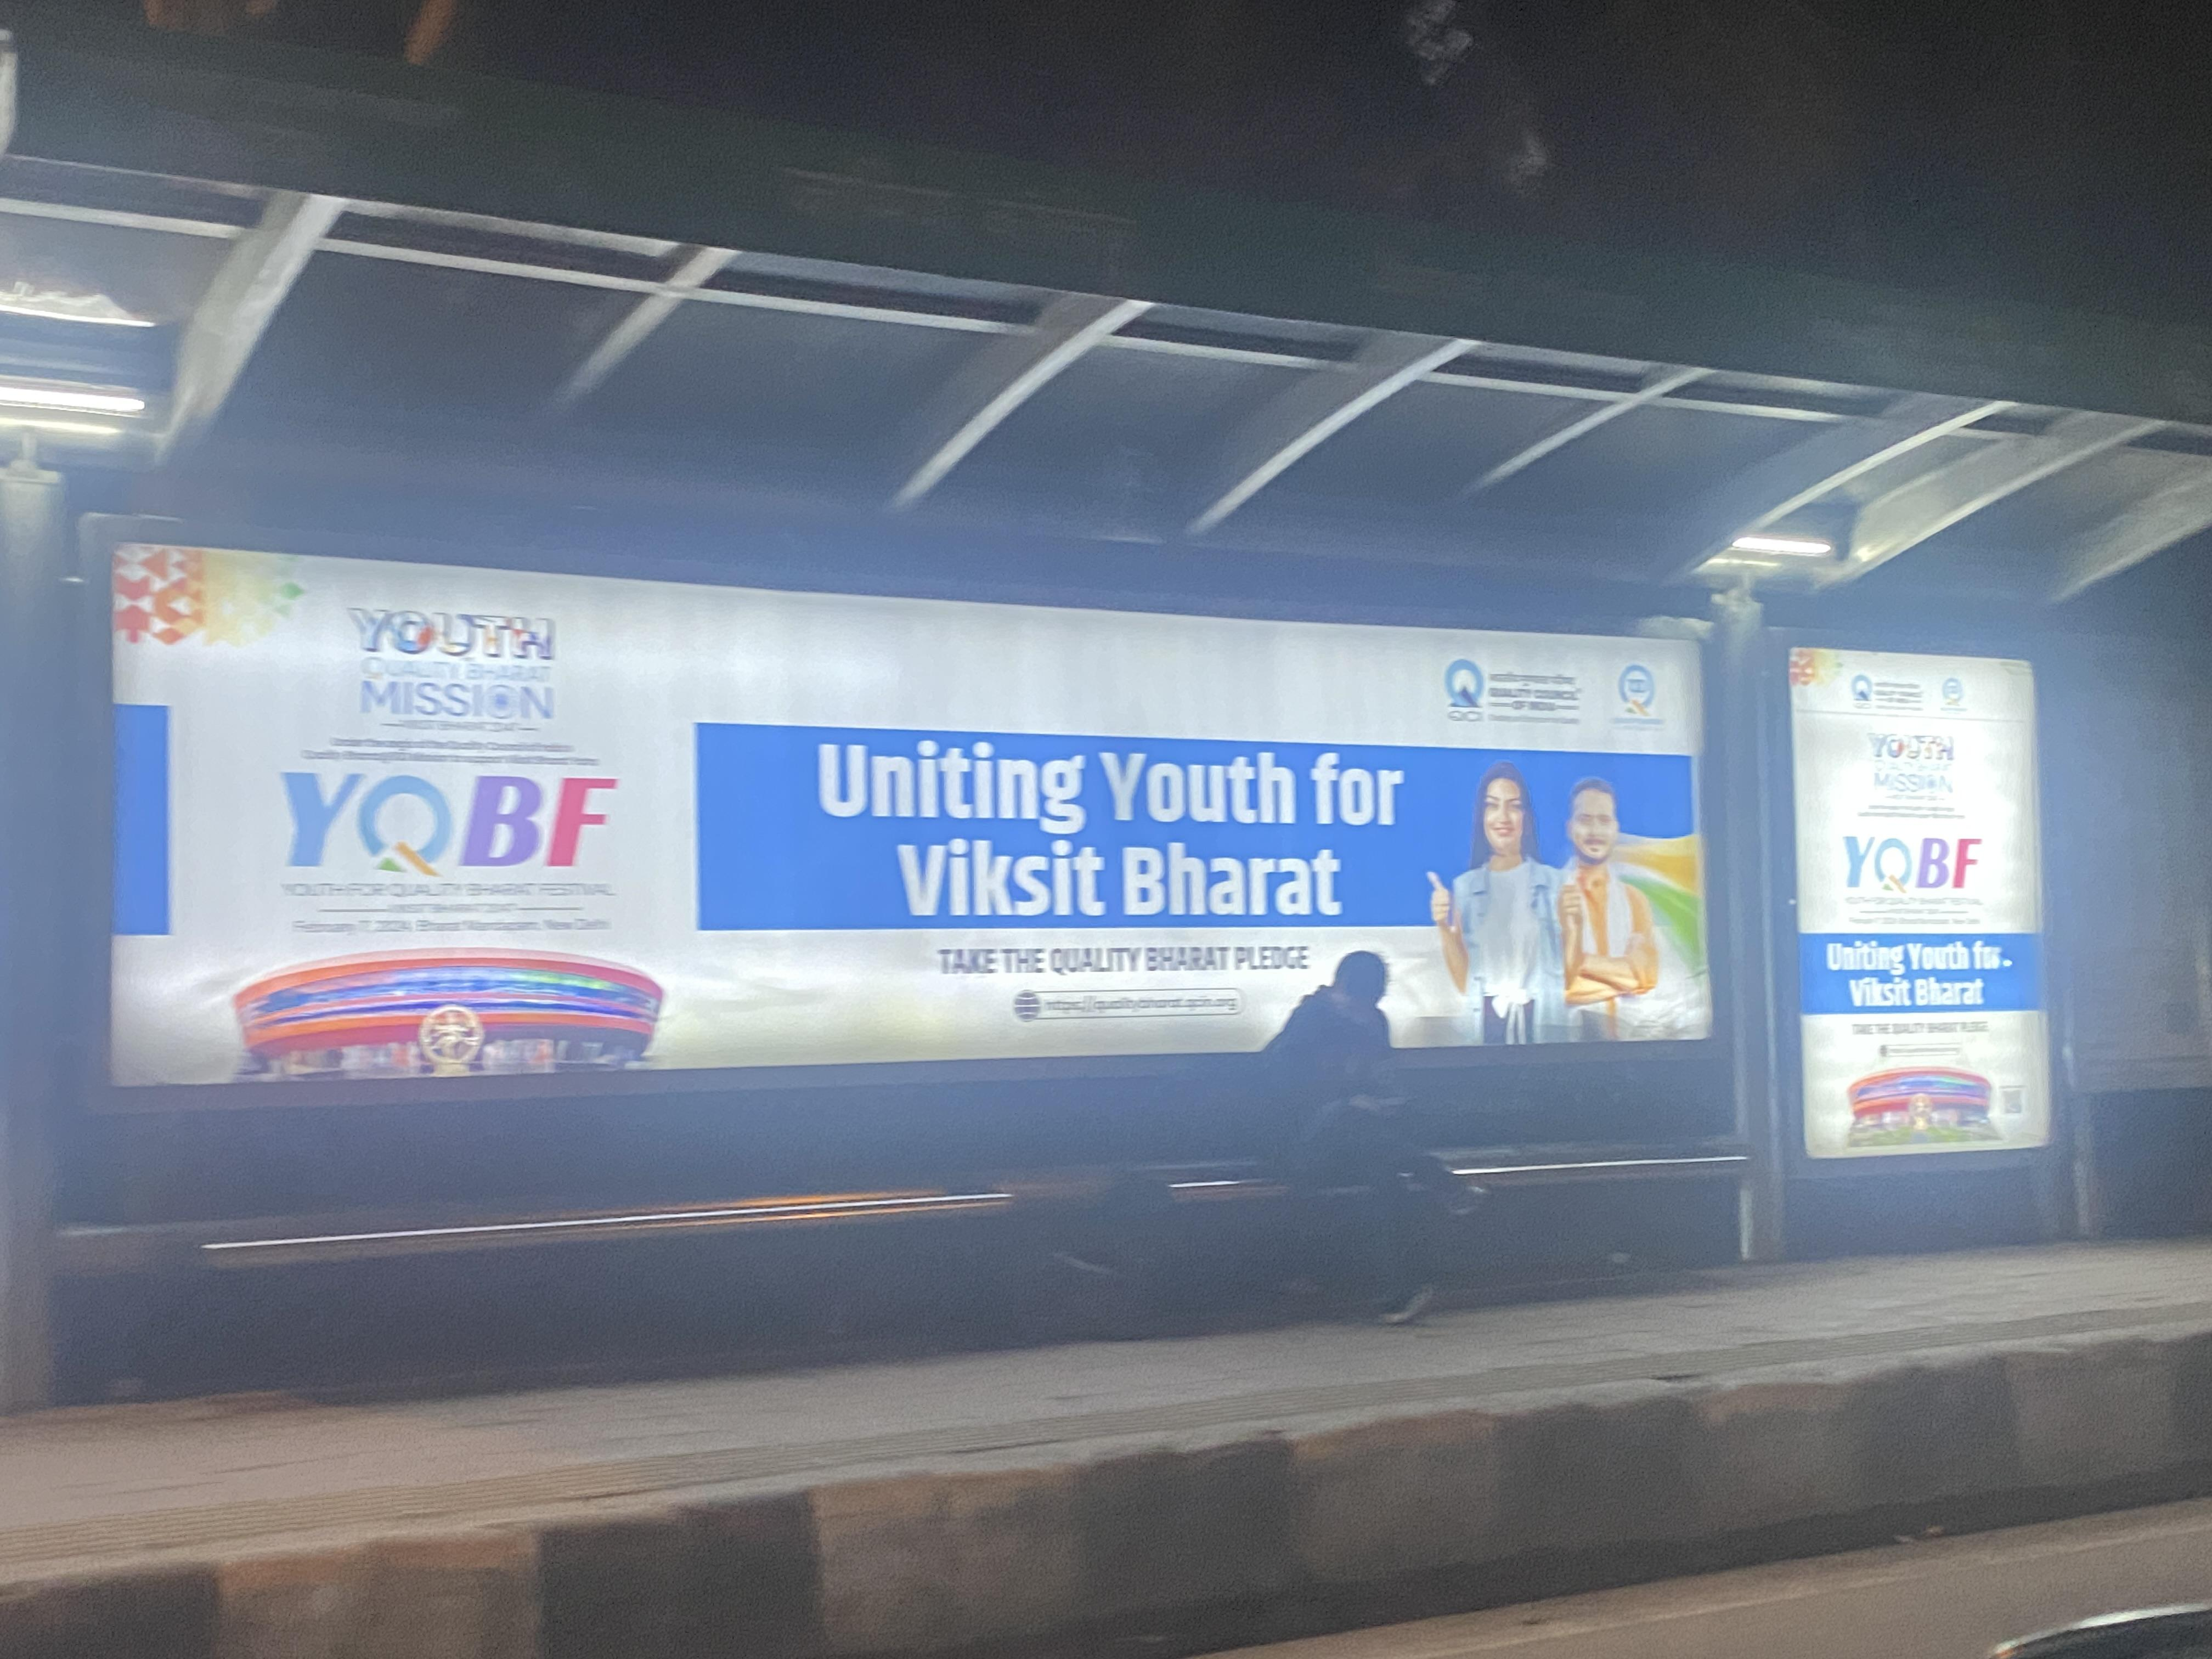Bus-stop-board: (0, 44, 2174, 373)
